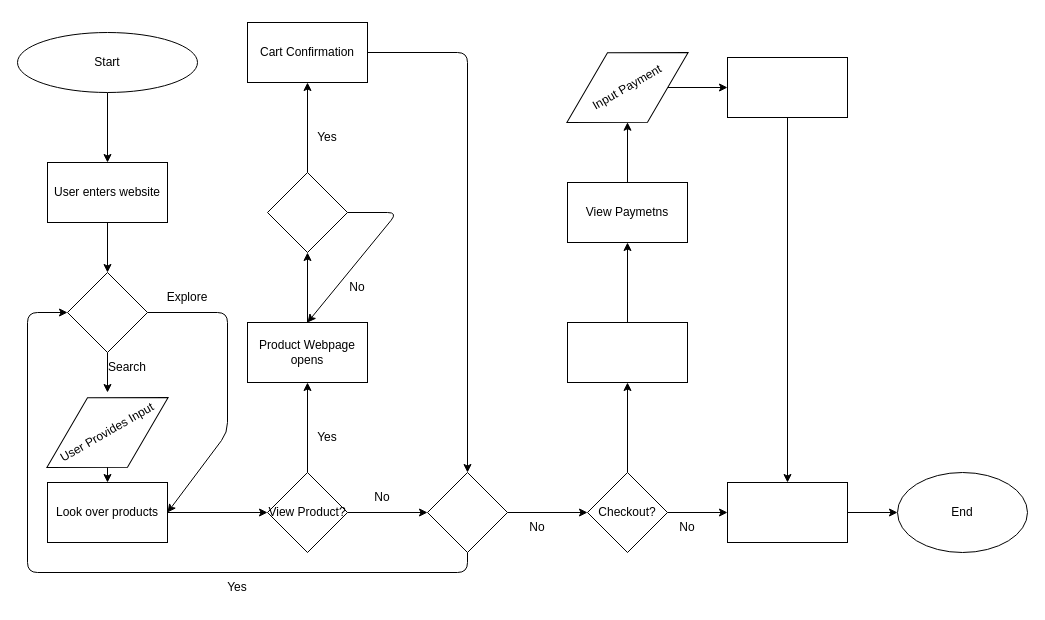
This 1045x620 diagram has some shape labels left out. The shapes that lost their labels are listed below. From the top down, each one's centre as x and y in pixels, then its label:
At (787,87): "Order Confirmation and Email".
At (307,212): "Add to cart?".
At (107,312): "Search or Explore".
At (627,352): "View Cart".
At (467,512): "Continue Shopping?".
At (787,512): "Leave Website".
